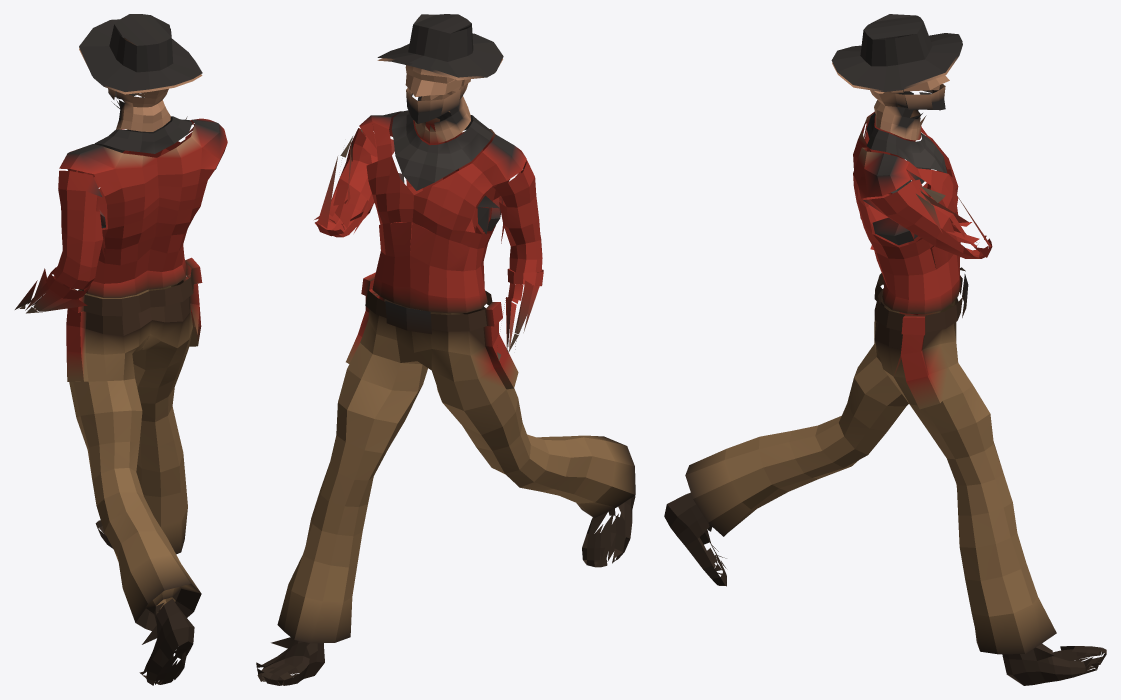
The model's file is man_1_c3.fbx.
3 renders of one model, left to right at view 1: azimuth 30°, elevation 25°; view 2: azimuth 150°, elevation 25°; view 3: azimuth 270°, elevation 25°, orthographic. The views are drawn at different scales.
Visible parts, largest first — view 1: cowboy; view 2: cowboy; view 3: cowboy.
Boxes of the visible parts, <box> form: cowboy: <box>15,14,227,685</box>; cowboy: <box>256,14,635,685</box>; cowboy: <box>664,14,1106,685</box>.
Bounding box in the file's own units: 0.3304 × 0.9788 × 0.6263.
